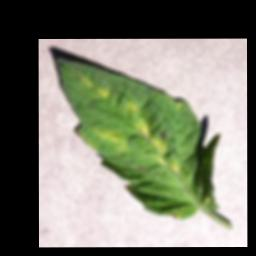Leaf_Mold: (54, 55, 220, 218)
